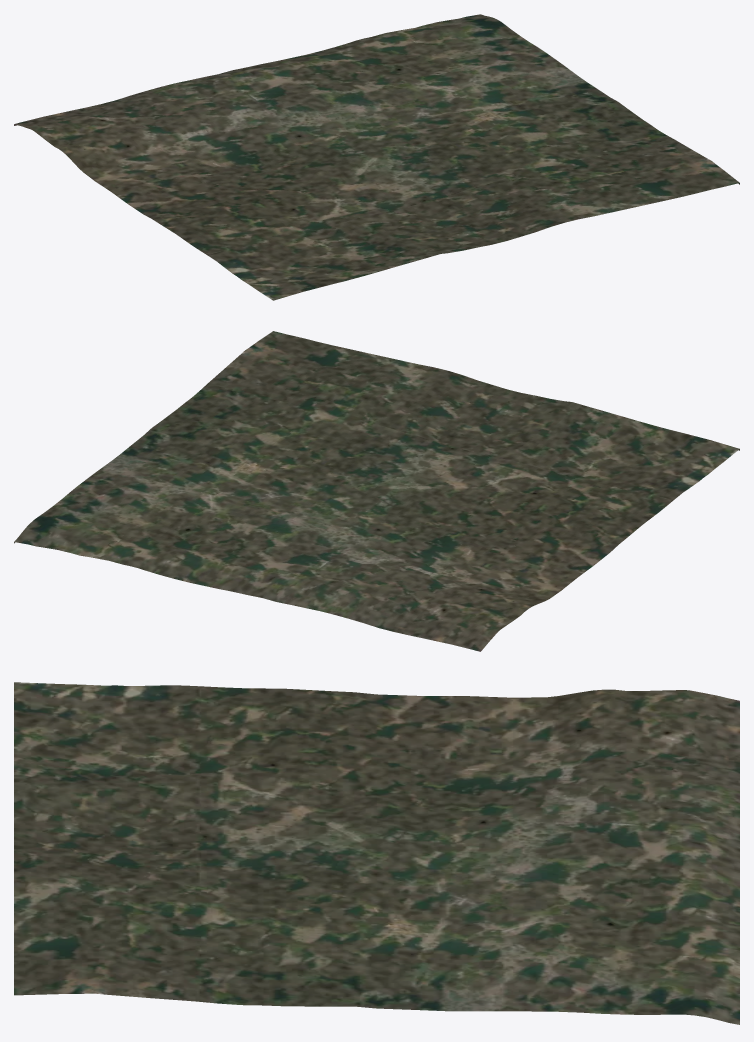
3 renders of one model, top to bottom at view 1: azimuth 30°, elevation 25°; view 2: azimuth 150°, elevation 25°; view 3: azimuth 270°, elevation 25°, orthographic. The views are drawn at different scales.
Size of the model in its own units: 250 by 13.4 by 241.
Materials: 1 (1 with a texture image).
